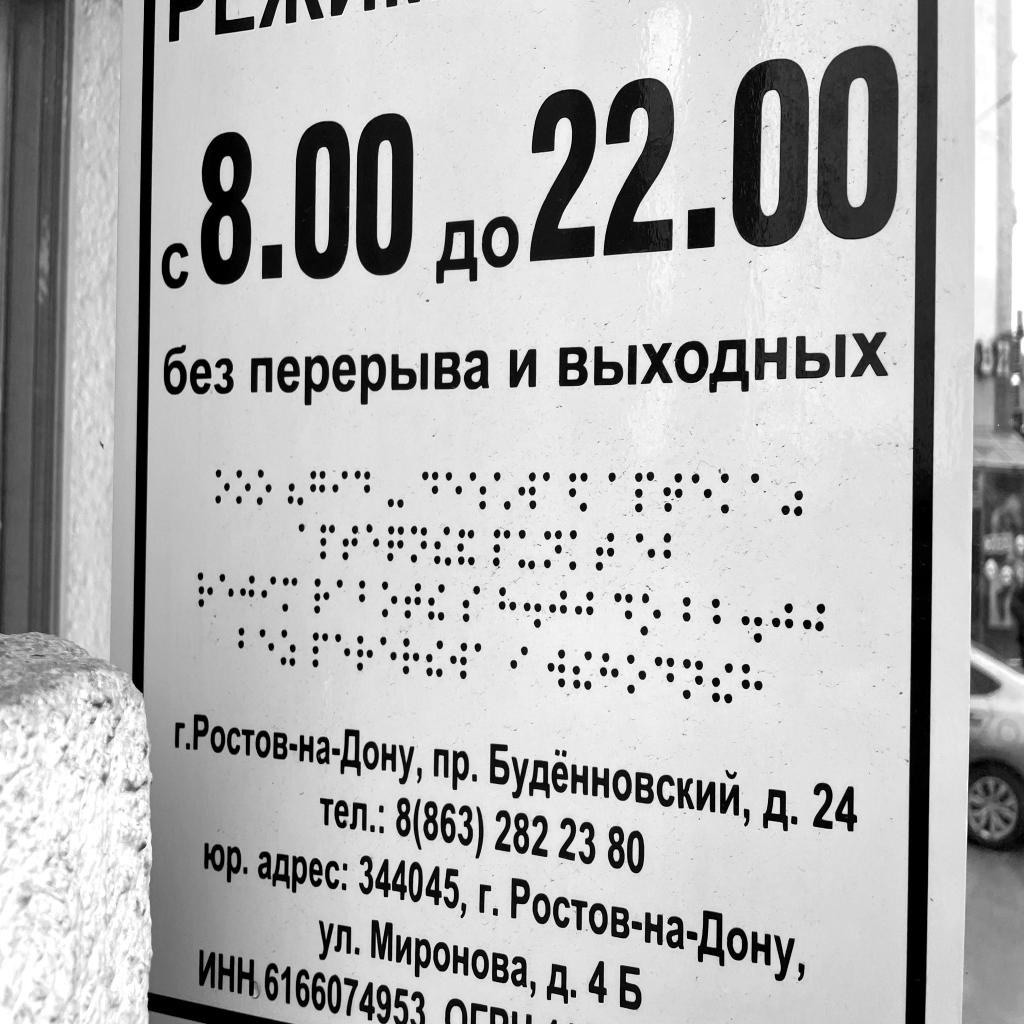_n: (682, 656, 703, 702), (544, 529, 562, 570), (410, 525, 428, 564)
_y: (518, 528, 536, 571)
a: (749, 471, 772, 516), (607, 470, 626, 512), (542, 471, 560, 510), (336, 579, 354, 615), (474, 642, 491, 679), (298, 522, 315, 558)
b: (358, 579, 376, 619), (238, 626, 254, 661)
ch: (387, 525, 404, 563)
d: (654, 654, 675, 699), (614, 590, 633, 635), (422, 471, 440, 510), (354, 469, 372, 507)
defis: (387, 472, 405, 509)
e: (691, 471, 713, 515), (379, 636, 398, 676), (445, 471, 463, 510), (365, 523, 381, 562), (259, 628, 276, 664), (334, 633, 350, 671), (219, 572, 234, 611)
g: (310, 470, 326, 508)
gh: (239, 574, 255, 612)
i: (510, 644, 529, 684), (331, 469, 349, 507), (261, 574, 277, 610)
iKratkoe: (457, 527, 475, 567)
ii: (711, 661, 734, 706), (573, 650, 594, 692), (425, 640, 444, 680), (433, 525, 451, 567), (428, 583, 445, 623)
k: (720, 472, 742, 516), (568, 528, 587, 571)
kavichki1: (288, 470, 304, 508)
kavichki2: (780, 473, 803, 519)
m: (282, 576, 298, 613)
o: (640, 592, 661, 637), (626, 653, 647, 697), (380, 579, 399, 619), (256, 468, 273, 506), (215, 469, 230, 505), (236, 469, 250, 507)
p: (633, 470, 655, 514), (493, 529, 511, 570), (312, 630, 329, 669), (320, 522, 336, 561)
r: (357, 634, 375, 674), (402, 638, 420, 677), (197, 571, 214, 610), (313, 577, 330, 616)
s: (463, 584, 481, 625)
sh: (468, 470, 487, 511)
t: (663, 472, 683, 516), (595, 531, 615, 572), (341, 523, 359, 562), (404, 581, 422, 620)
tochka: (741, 598, 764, 645), (524, 587, 542, 629)
v: (517, 471, 537, 511), (548, 648, 566, 690), (450, 641, 467, 681)
x: (741, 663, 764, 712), (599, 652, 619, 694)
ya: (569, 472, 588, 513)
yo: (493, 471, 512, 512)
z: (281, 627, 296, 667)
